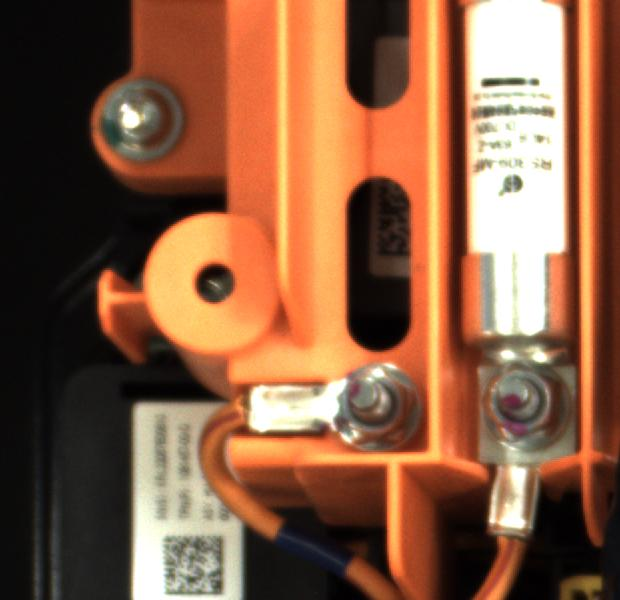screw_m: (85, 68, 206, 171)
screw_s: (479, 360, 579, 449), (330, 362, 430, 448)
